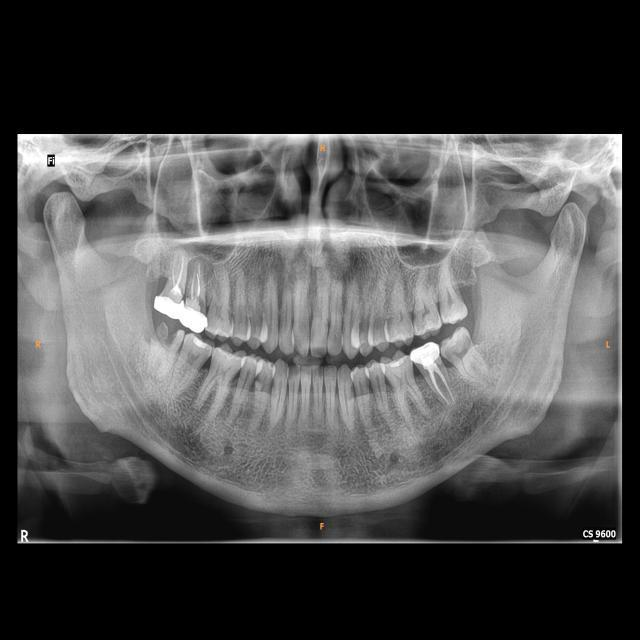dentin-curugu: (151, 316, 183, 352), (452, 331, 473, 358)
dolgu: (185, 332, 212, 356)
kanal-tedavisi: (423, 366, 456, 408), (185, 258, 206, 300), (170, 254, 184, 296)
kaplama: (150, 293, 184, 319), (409, 342, 440, 368), (180, 308, 210, 332)
